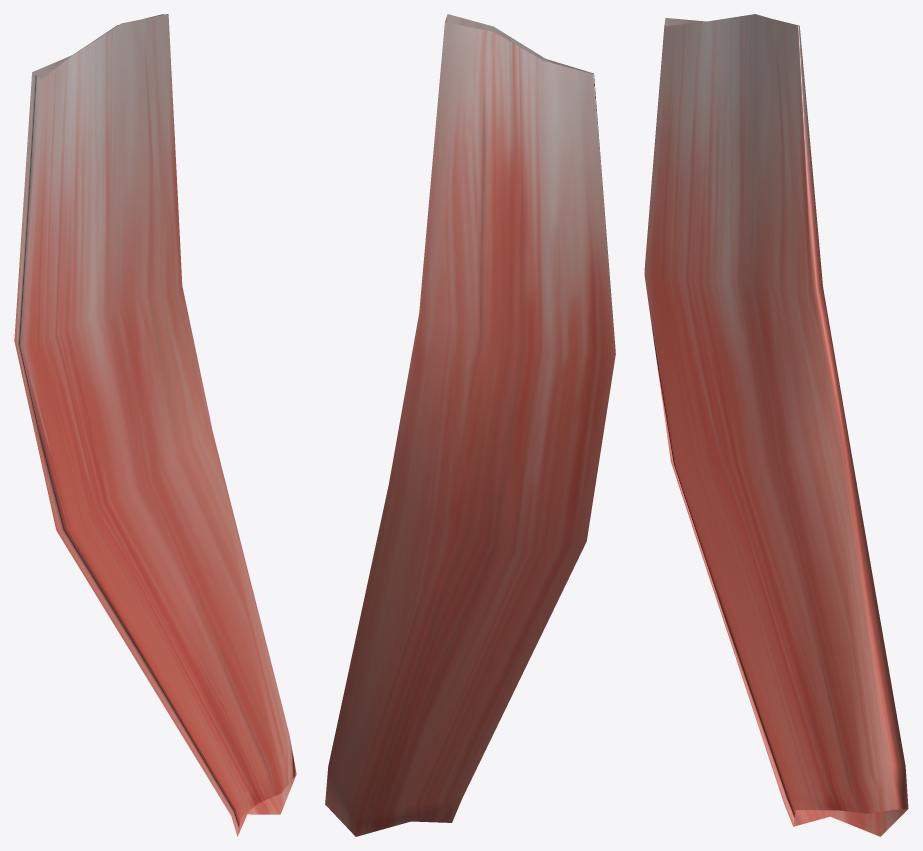
The model's file is Rectus_Capitis_Major_Muscle_Right.obj.
3 renders of one model, left to right at view 1: azimuth 30°, elevation 25°; view 2: azimuth 150°, elevation 25°; view 3: azimuth 330°, elevation 25°, orthographic. The views are drawn at different scales.
Visible parts, largest first — view 1: Thyrohyoid_Muscle_Right:Thyrohyoid_Muscle_Right_Mesh Thyrohyoid_; view 2: Thyrohyoid_Muscle_Right:Thyrohyoid_Muscle_Right_Mesh Thyrohyoid_; view 3: Thyrohyoid_Muscle_Right:Thyrohyoid_Muscle_Right_Mesh Thyrohyoid_.
Part boxes in pixels (x1=…): Thyrohyoid_Muscle_Right:Thyrohyoid_Muscle_Right_Mesh Thyrohyoid_: x1=14, y1=14, x2=296, y2=836; Thyrohyoid_Muscle_Right:Thyrohyoid_Muscle_Right_Mesh Thyrohyoid_: x1=325, y1=14, x2=615, y2=836; Thyrohyoid_Muscle_Right:Thyrohyoid_Muscle_Right_Mesh Thyrohyoid_: x1=644, y1=14, x2=908, y2=836.
Size of the model in its own units: 0.1978 by 0.5526 by 0.0707.
